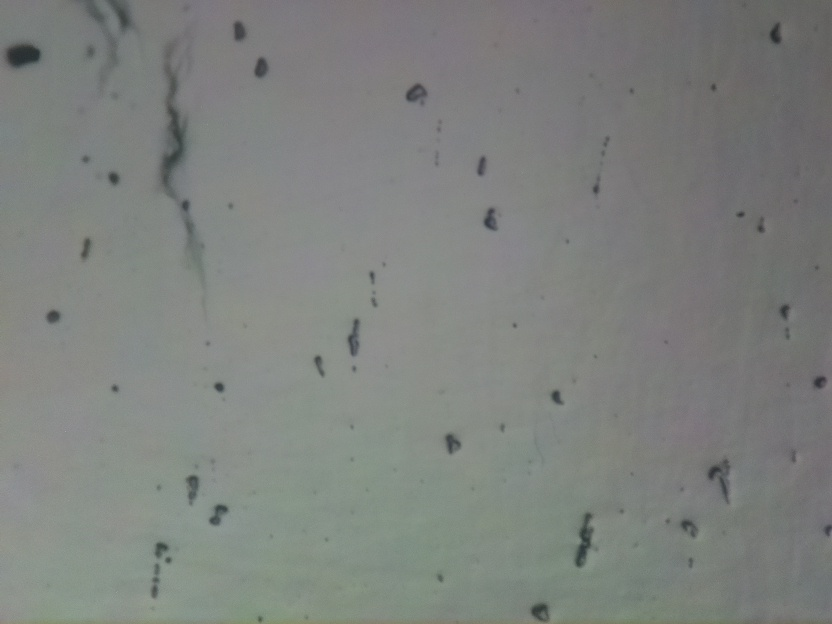crack: (155, 38, 192, 217)
